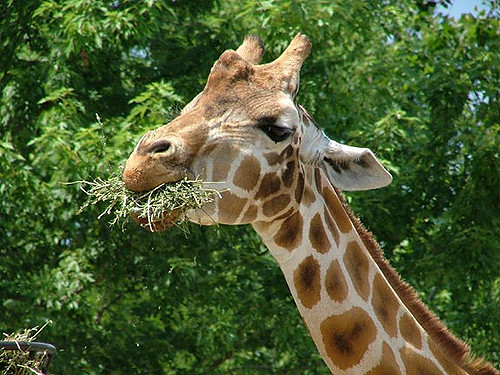giraffe: (129, 34, 447, 361)
